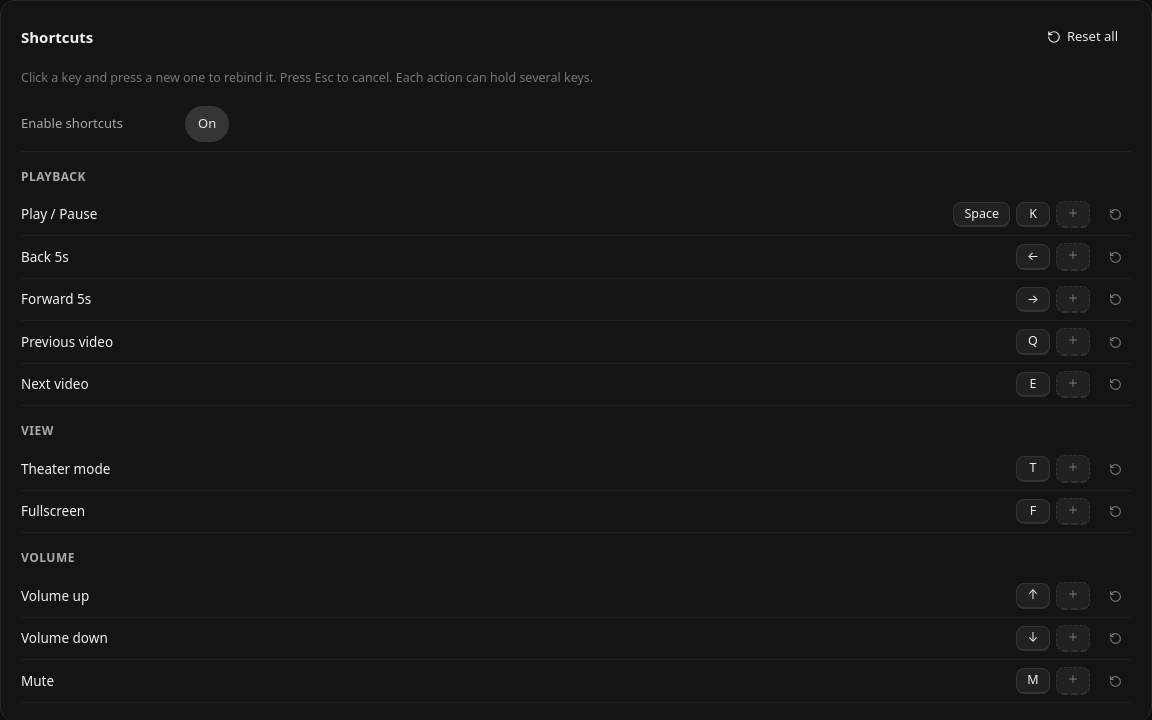
Test: ShortcutSettings › rebinds an action when a new key is pressed
The image size is (1152, 720).
Click the button "Q".
click(1033, 342)  # box [1016,329,1050,355]
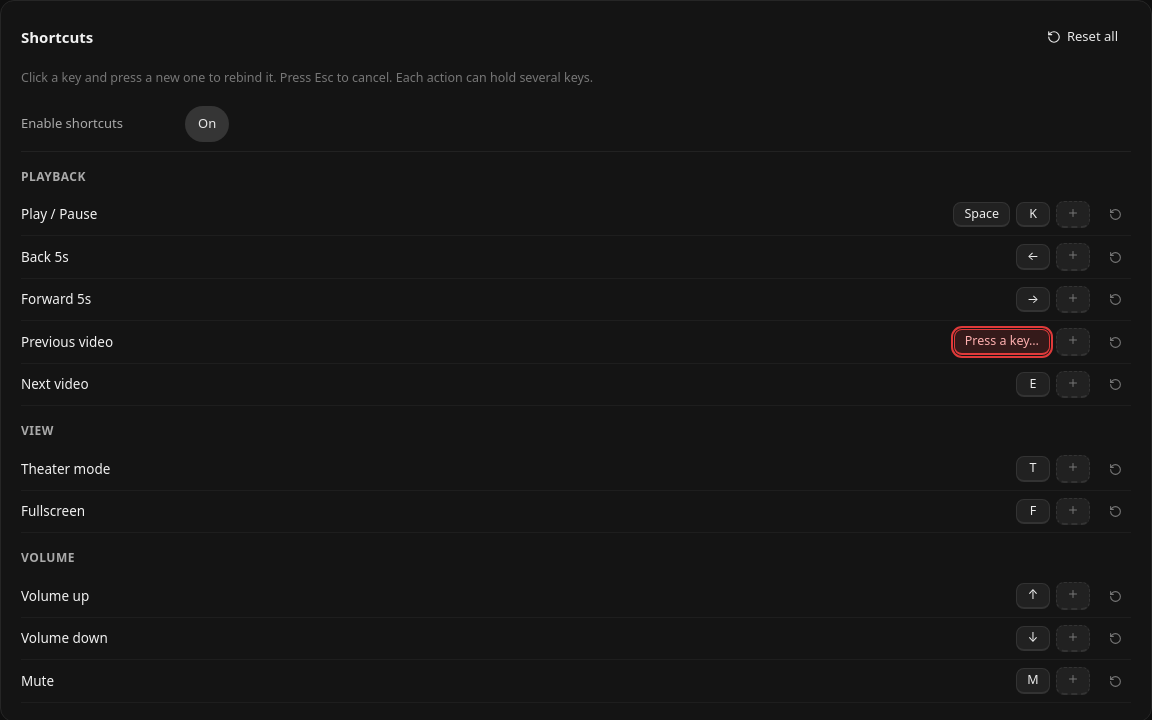
Now the button "Press a key…" is shown, box [954,329,1050,355]
Type keys "j"
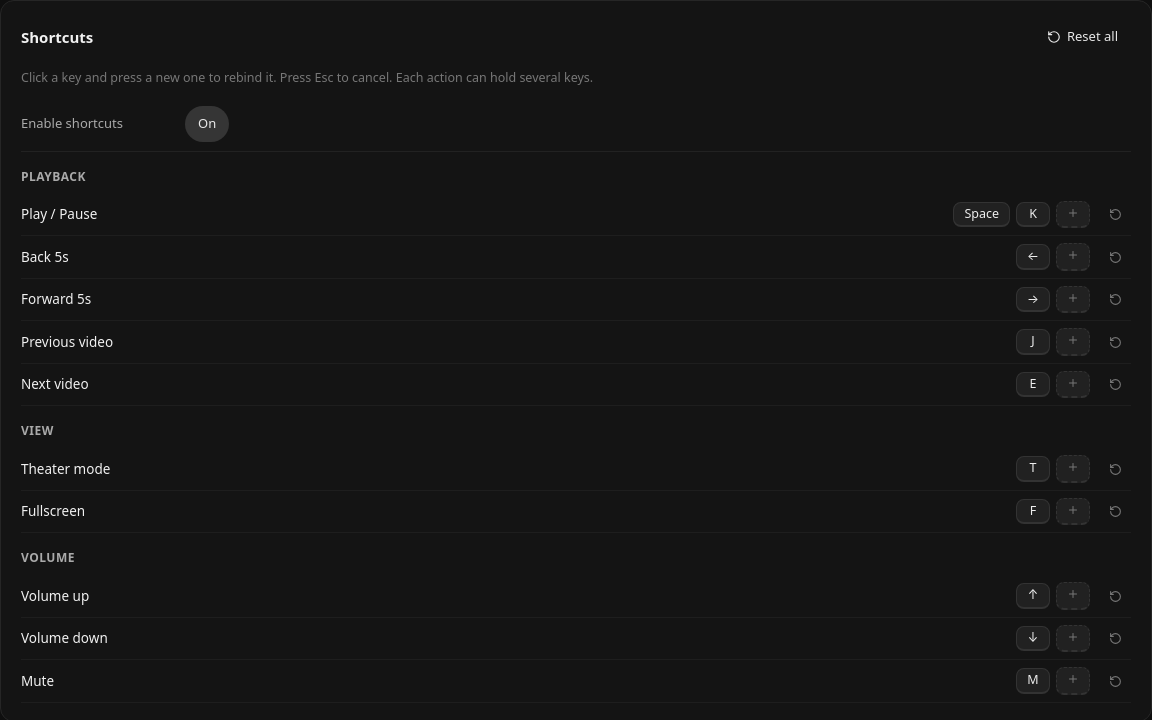
Now the button "J" is shown, box [1016,329,1050,355]
